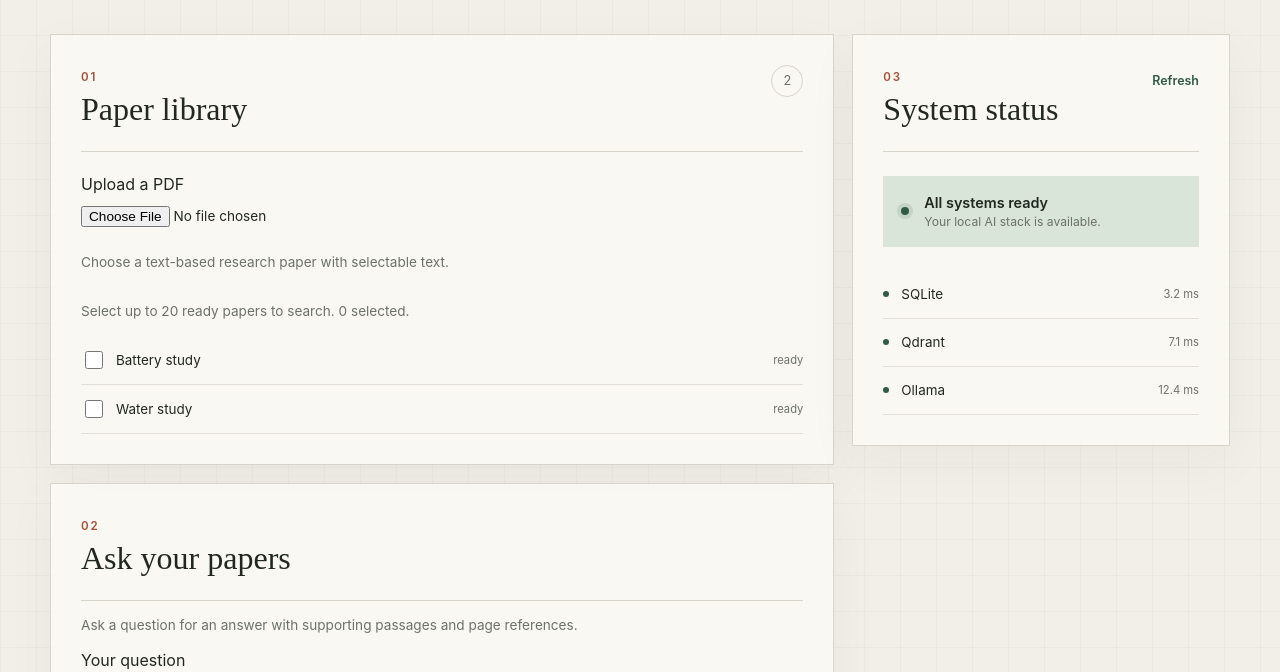
Test: App › shows retrieval errors, permits retry, and explains empty results
(page scrolled)
Click the checkbox labelled "Battery study" at [94, 360], box [85,352,103,370]
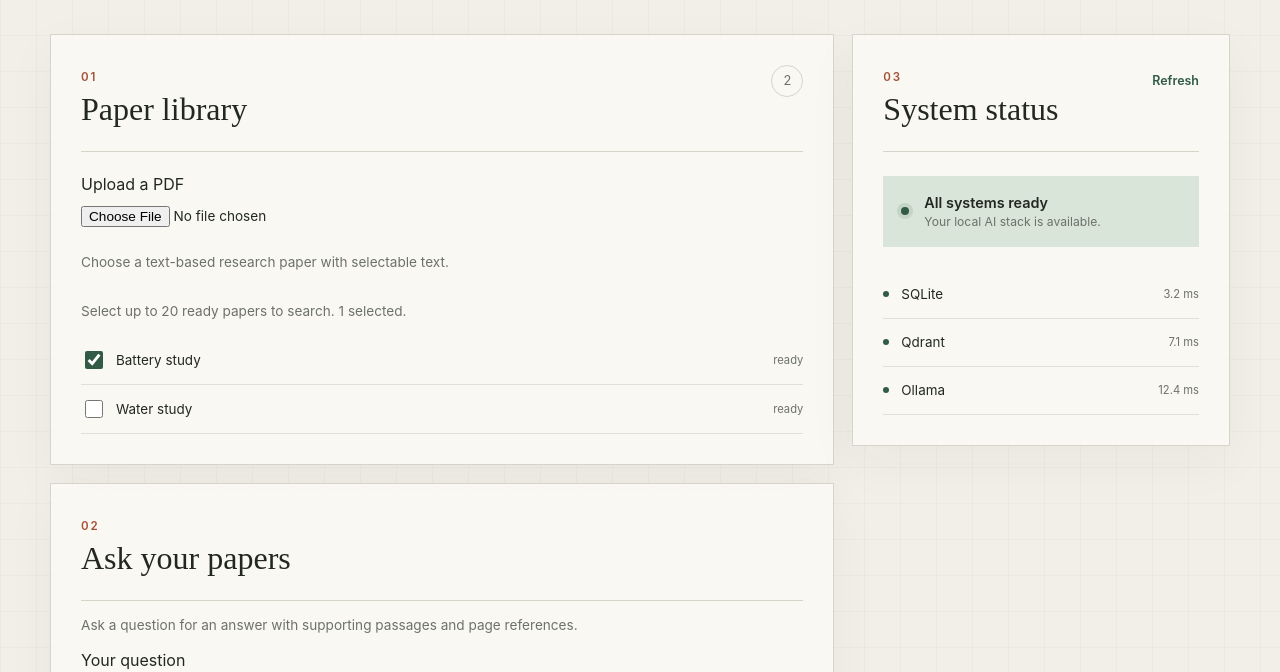
Click the checkbox labelled "Water study" at [94, 410], box [85,400,103,418]
(page scrolled)
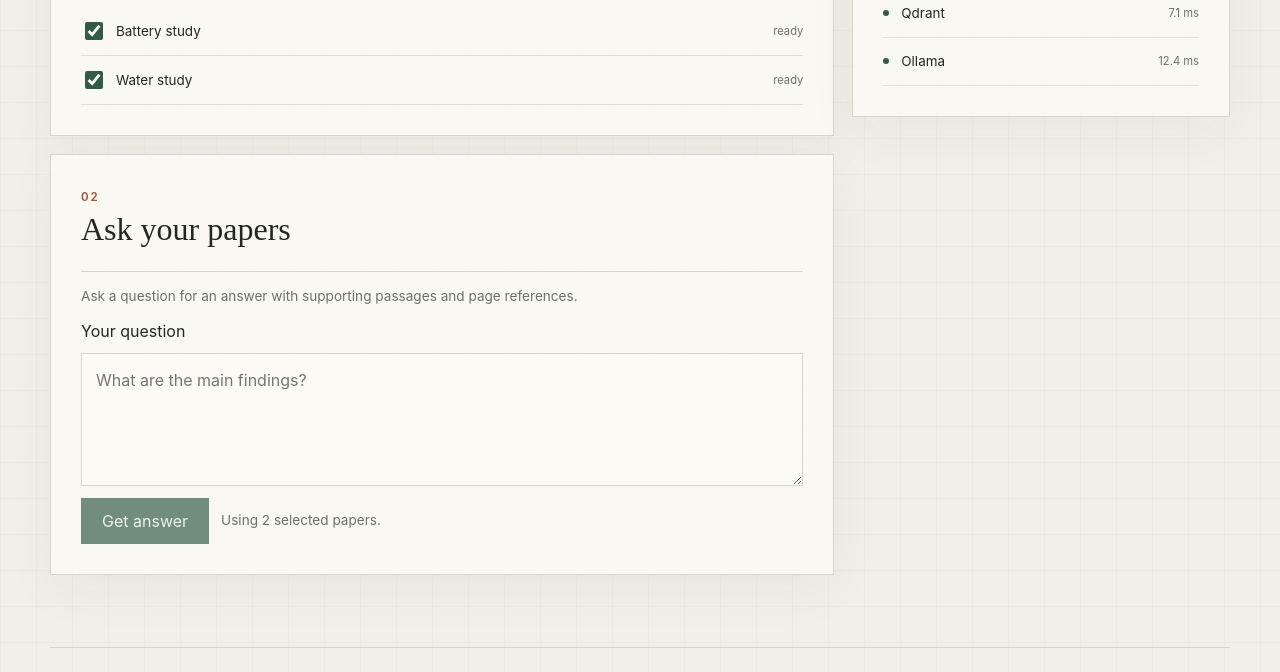
Type "Evidence?" into the text box labelled "Your question" at [442, 420], box [81,353,803,486]
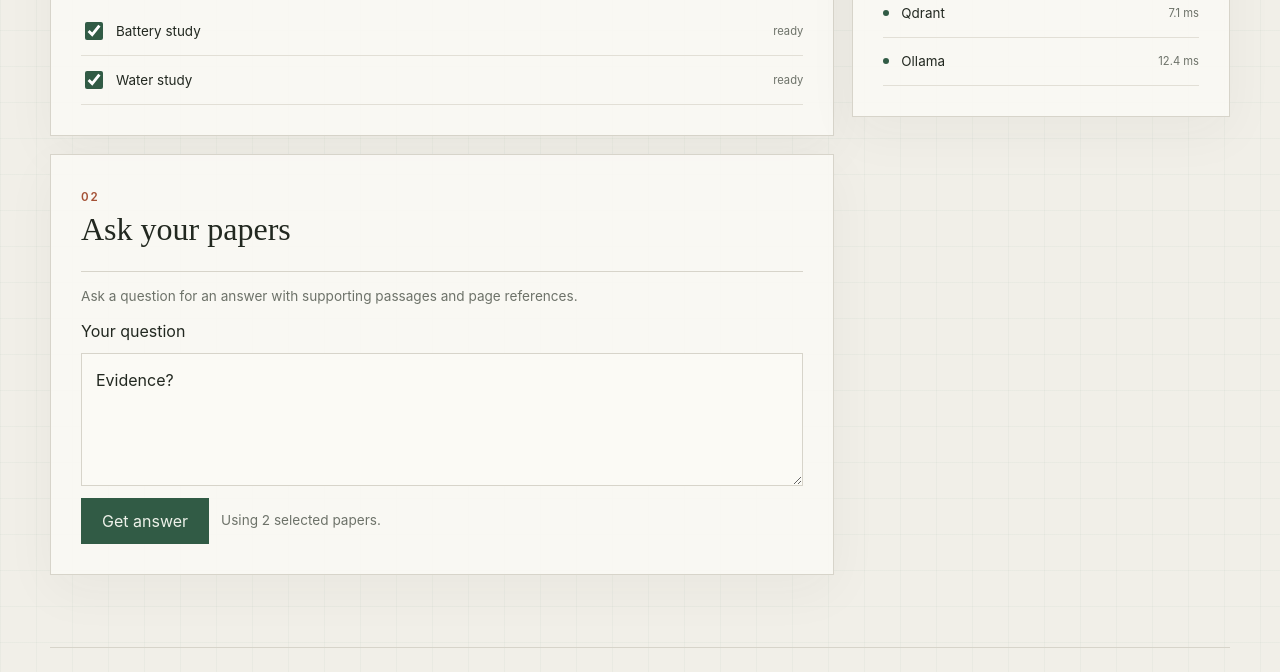
Click the button "Get answer" at [145, 521], box [81,498,209,544]
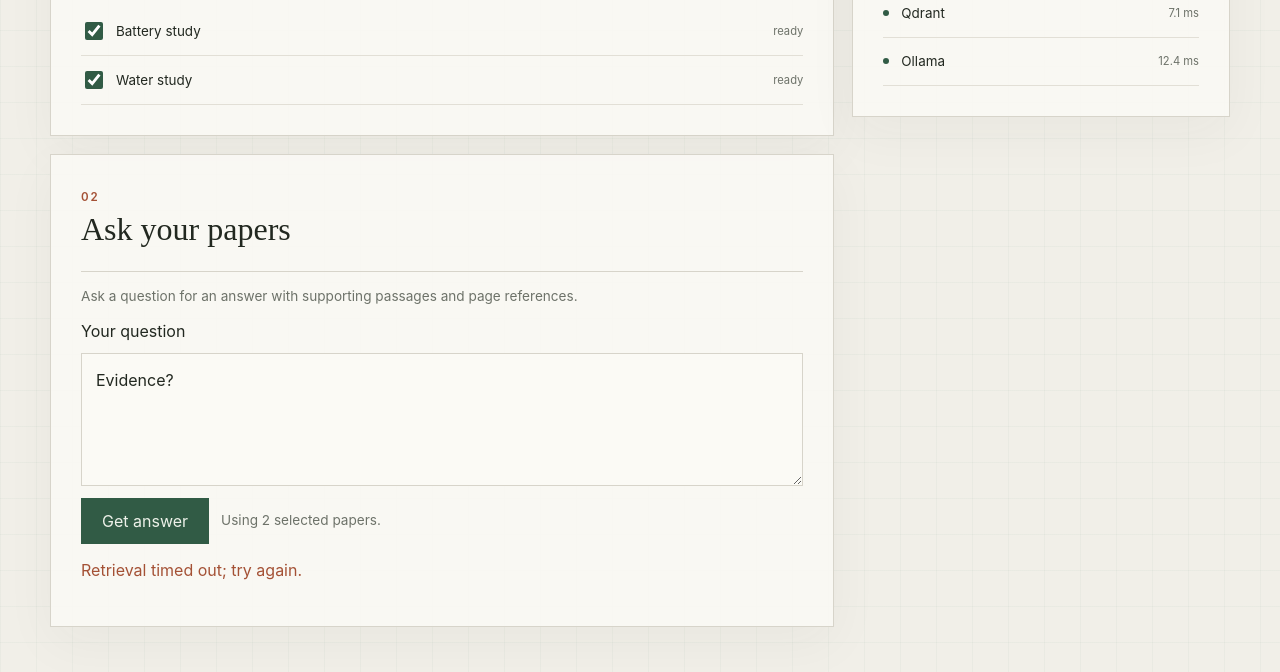
Check: the message reads "Retrieval timed out; try again.", box [81,560,302,580]
Click the button "Get answer" at [145, 521], box [81,498,209,544]
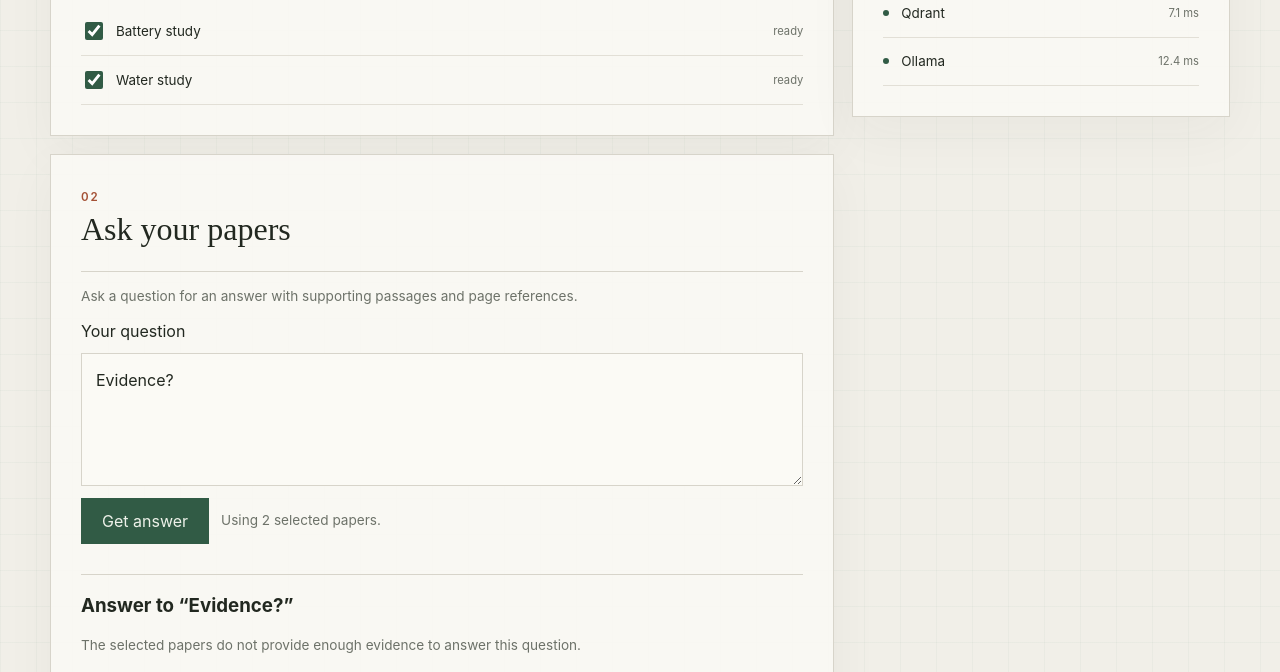
Check: the text "do not provide enough evidence" is shown, box [81,637,581,653]
